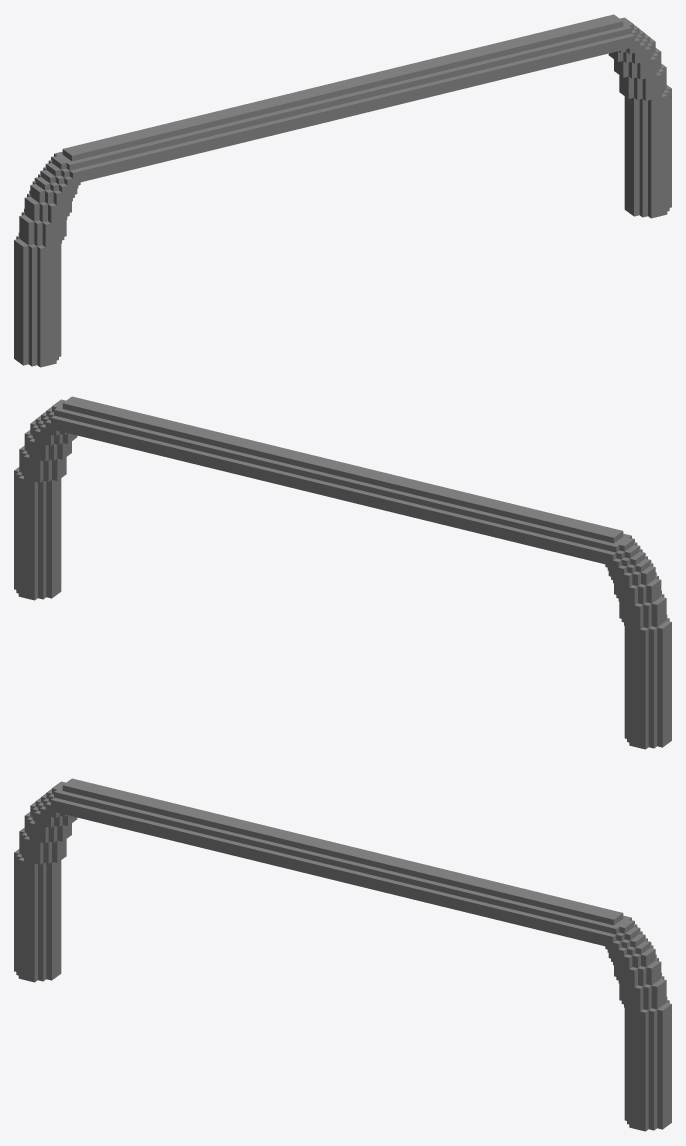
The model's file is Rail.fbx.
The picture shows the model from 3 angles, top to bottom: view 1: azimuth 30°, elevation 25°; view 2: azimuth 150°, elevation 25°; view 3: azimuth 330°, elevation 25°; orthographic projection.
Parts seen in each view (by area): view 1: Rail:Mesh; view 2: Rail:Mesh; view 3: Rail:Mesh.
Boxes of the visible parts, bbox=[...] form: Rail:Mesh: bbox=[14, 14, 671, 367]; Rail:Mesh: bbox=[14, 396, 671, 749]; Rail:Mesh: bbox=[14, 778, 671, 1131].
Size of the model in its own units: 120 by 35 by 7.
Materials: 1 (1 with a texture image).
